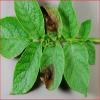Potato leaf late blight: (38, 40, 65, 92), (39, 2, 63, 43)
